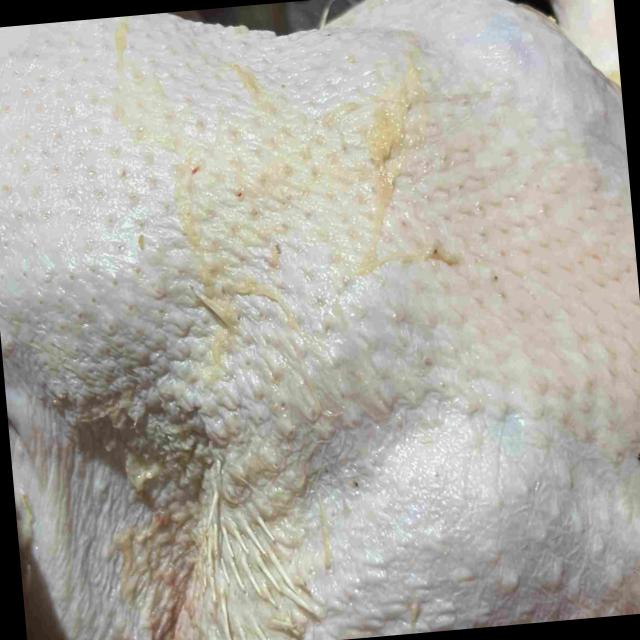back: (0, 4, 640, 511)
leg: (189, 536, 640, 640)
